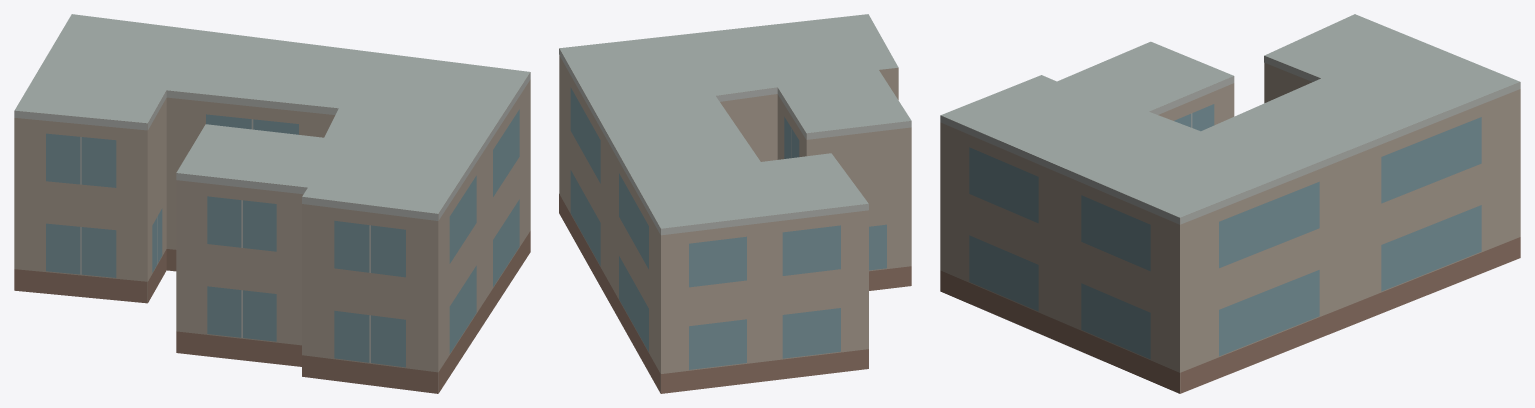
Rendered from survey-upis-32755635.glb.
3 renders of one model, left to right at view 1: azimuth 30°, elevation 25°; view 2: azimuth 150°, elevation 25°; view 3: azimuth 270°, elevation 25°, orthographic. The views are drawn at different scales.
Visible parts, largest first — view 1: survey-upis-32755635.tmp; view 2: survey-upis-32755635.tmp; view 3: survey-upis-32755635.tmp.
Part boxes in pixels (x1,y1,x2,y2): survey-upis-32755635.tmp: (14, 14, 530, 393); survey-upis-32755635.tmp: (559, 14, 911, 393); survey-upis-32755635.tmp: (940, 14, 1520, 393).
Size of the model in its own units: 15.15 by 6.1 by 18.22.
